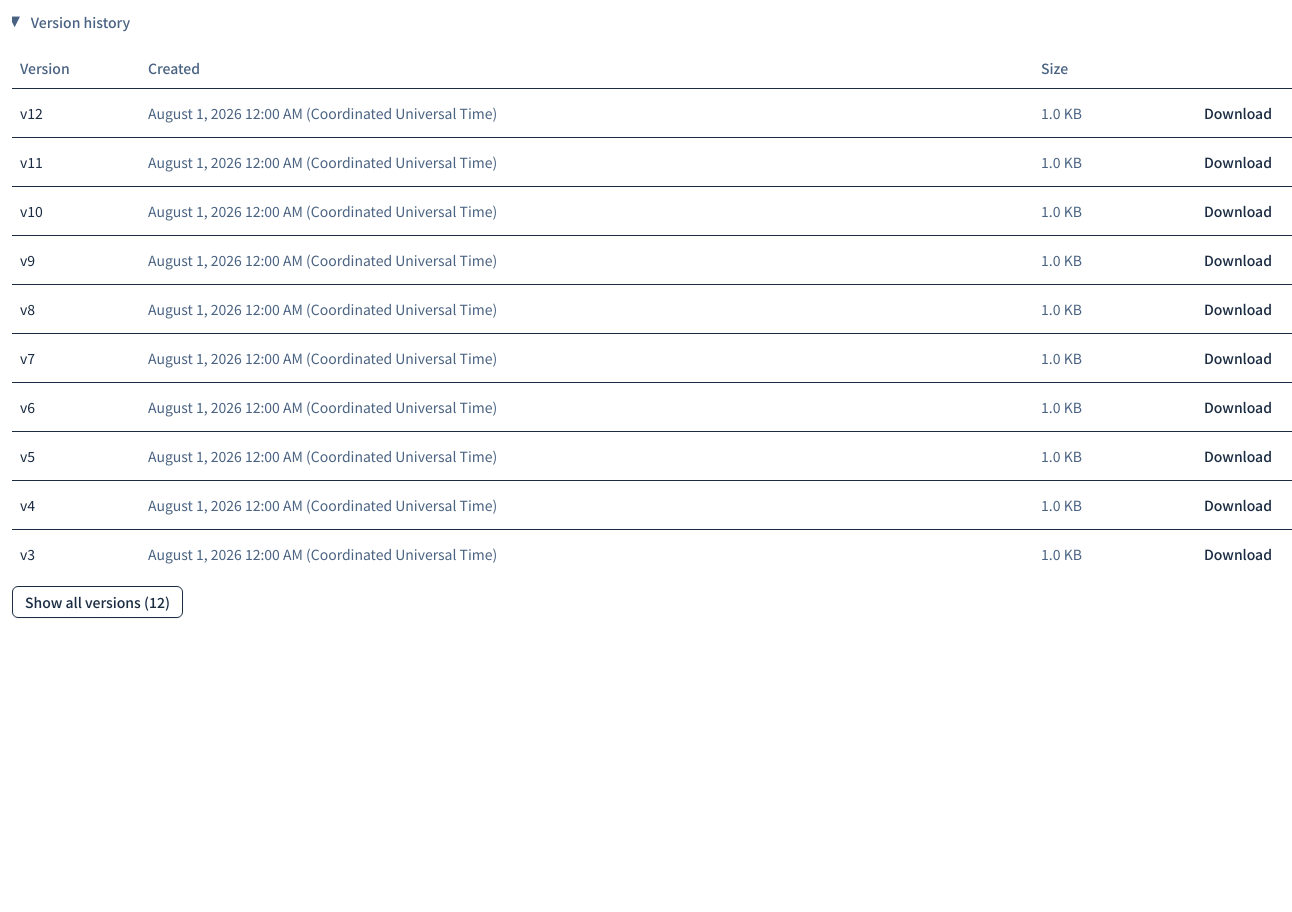
VersionHistory › keeps the tail behind "show all"
This screenshot has width=1292, height=912.
Check: the text "v12" is shown, box [20,102,43,122]
Check: the text "v3" is shown, box [20,544,35,564]
Click the button "Show all versions (12)" at (97, 602), box [12,586,183,618]
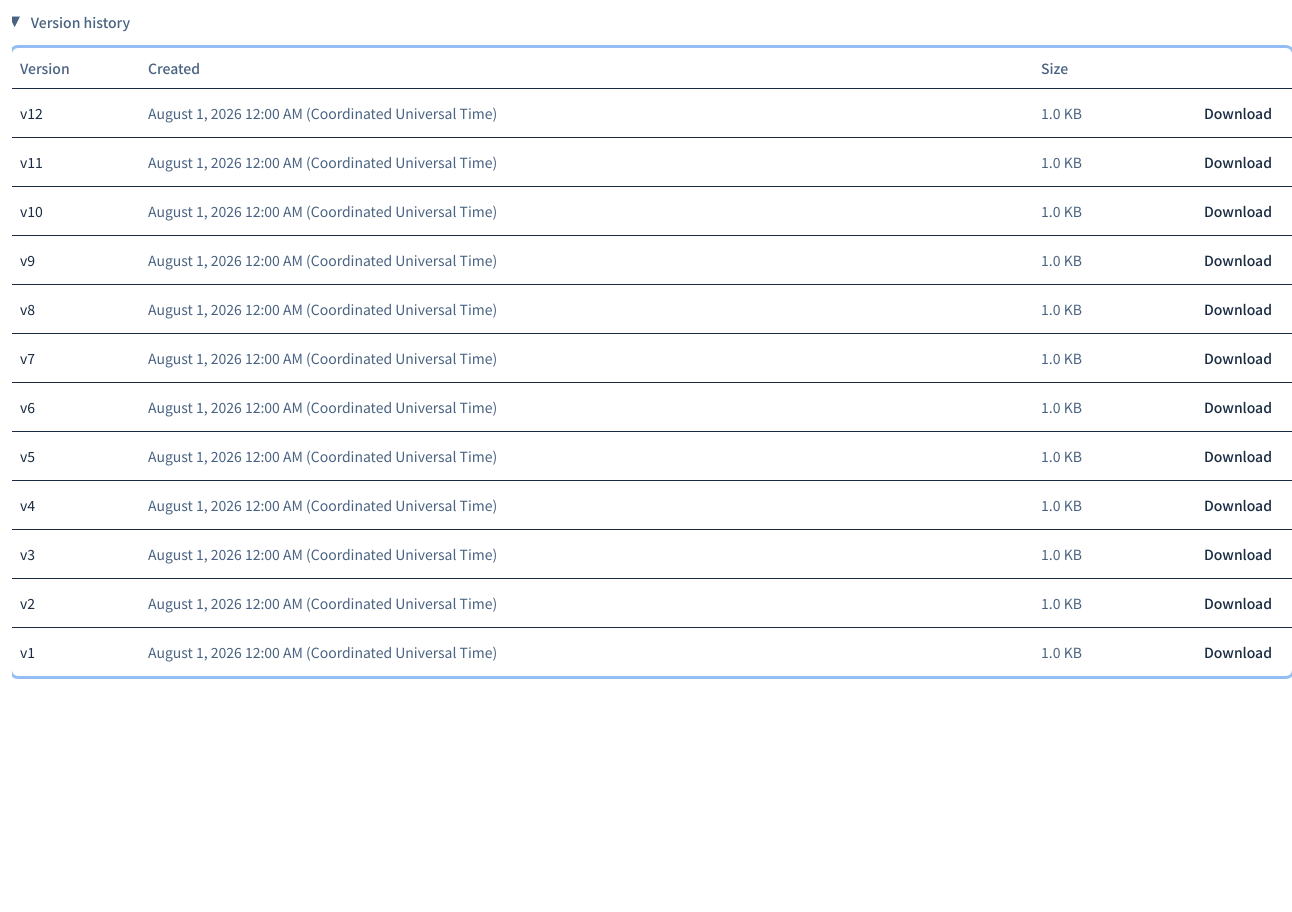
Check: the text "v1" is shown, box [20,642,35,662]
Check: the button "Show all" is gone
